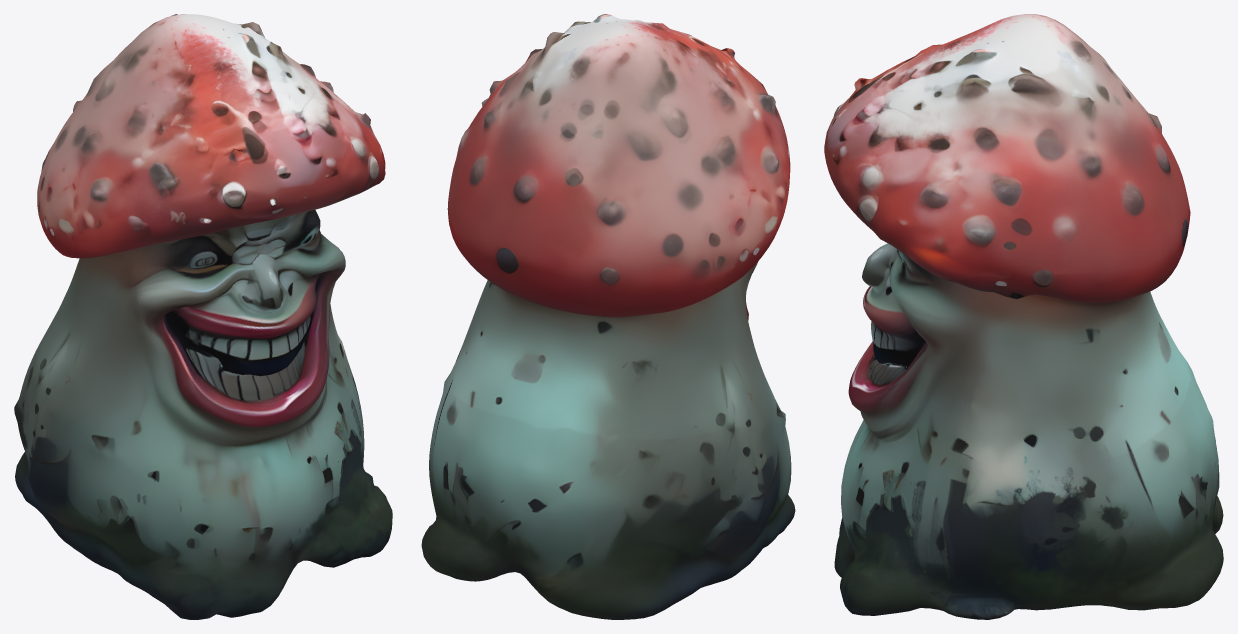
Rendered from base_basic_shaded.glb.
The picture shows the model from 3 angles, left to right: view 1: azimuth 30°, elevation 25°; view 2: azimuth 150°, elevation 25°; view 3: azimuth 270°, elevation 25°; orthographic projection. The views are drawn at different scales.
Parts seen in each view (by area): view 1: model; view 2: model; view 3: model.
Part boxes in pixels (x1=…): model: x1=14, y1=14, x2=392, y2=619; model: x1=421, y1=14, x2=795, y2=619; model: x1=824, y1=14, x2=1223, y2=619.
Size of the model in its own units: 1.15 by 1.89 by 1.21.
1 material, 1 textured.
